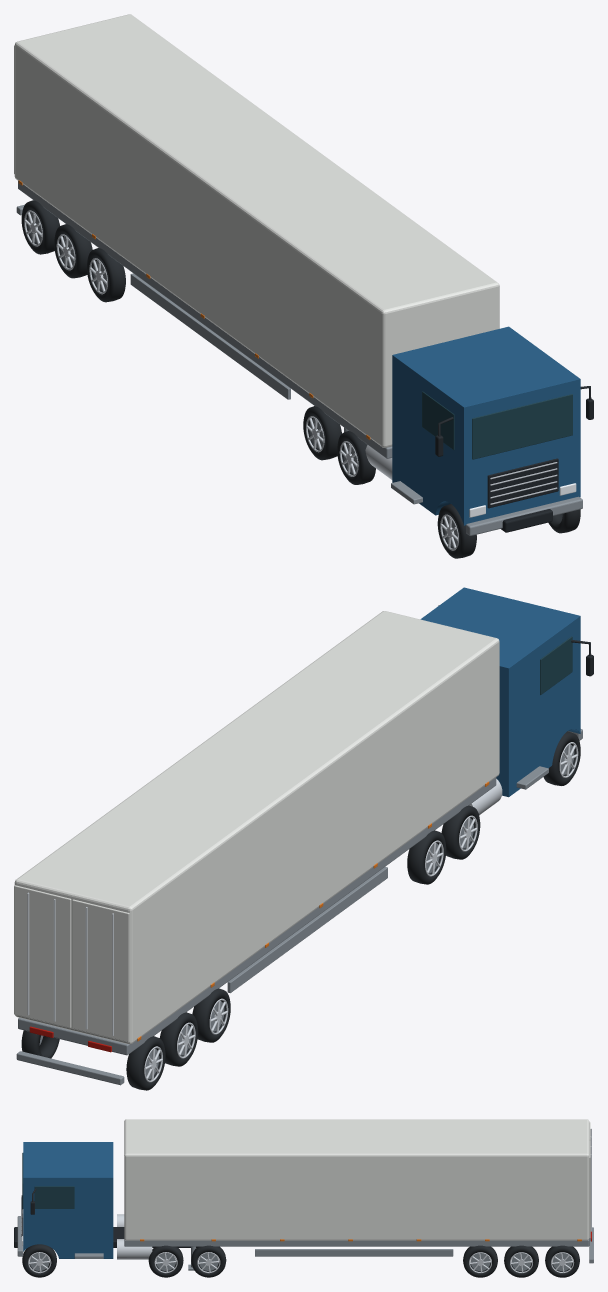
File: tractomula.glb
The picture shows the model from 3 angles, top to bottom: view 1: azimuth 30°, elevation 25°; view 2: azimuth 150°, elevation 25°; view 3: azimuth 270°, elevation 25°; orthographic projection. The views are drawn at different scales.
Visible parts, largest first — view 1: Box trailer, Tractor sleeper cab, Windshield, Trailer chassis, Trailer side guard, Front grille, Trailer wheel_tire, Front bumper, Cab window, Tractor wheel_tire.004, Trailer wheel_tire.004, Trailer wheel_tire.002 (+3 smaller); view 2: Box trailer, Tractor sleeper cab, Rear door.001, Rear door, Trailer chassis, Trailer side guard, Trailer wheel_tire.004, Cab window, Tractor wheel_tire.004, Tractor wheel_tire.002, Rear underrun bar, Trailer wheel_tire (+3 smaller); view 3: Box trailer, Tractor sleeper cab, Trailer chassis, Trailer side guard.001, Cab window.001, Tractor wheel_tire.001, Trailer wheel_tire.005, Tractor wheel_tire.005, Trailer wheel_tire.003, Trailer wheel_tire.001, Tractor wheel_tire.003, Fuel tank.001 (+2 smaller).
Boxes of the visible parts, x1,y1,x2,y2 form: Box trailer: [14, 14, 499, 447]; Tractor sleeper cab: [392, 326, 580, 525]; Windshield: [472, 394, 572, 459]; Trailer chassis: [18, 181, 392, 458]; Trailer side guard: [130, 273, 290, 399]; Front grille: [487, 458, 558, 508]; Trailer wheel_tire: [86, 248, 125, 302]; Front bumper: [466, 496, 582, 535]; Cab window: [422, 391, 454, 449]; Tractor wheel_tire.004: [303, 406, 341, 460]; Trailer wheel_tire.004: [21, 200, 59, 254]; Trailer wheel_tire.002: [54, 224, 92, 278]; Box trailer: [14, 611, 499, 1044]; Tractor sleeper cab: [420, 587, 580, 797]; Rear door.001: [14, 885, 71, 1027]; Rear door: [72, 899, 129, 1042]; Trailer chassis: [18, 777, 496, 1055]; Trailer side guard: [227, 867, 387, 993]; Trailer wheel_tire.004: [126, 1036, 165, 1090]; Cab window: [540, 636, 572, 694]; Tractor wheel_tire.004: [407, 830, 446, 884]; Tractor wheel_tire.002: [441, 805, 480, 859]; Rear underrun bar: [16, 1051, 124, 1085]; Trailer wheel_tire: [192, 988, 230, 1042]; Box trailer: [124, 1119, 589, 1240]; Tractor sleeper cab: [23, 1142, 113, 1258]; Trailer chassis: [124, 1239, 589, 1246]; Trailer side guard.001: [255, 1249, 453, 1256]; Cab window.001: [34, 1186, 74, 1208]; Tractor wheel_tire.001: [22, 1244, 56, 1277]; Trailer wheel_tire.005: [545, 1245, 579, 1277]; Tractor wheel_tire.005: [191, 1245, 226, 1277]; Trailer wheel_tire.003: [504, 1245, 538, 1277]; Trailer wheel_tire.001: [463, 1245, 497, 1277]; Tractor wheel_tire.003: [148, 1245, 183, 1277]; Fuel tank.001: [117, 1239, 152, 1259].
Bounding box in the file's own units: 3.32 × 3.99 × 16.97.
